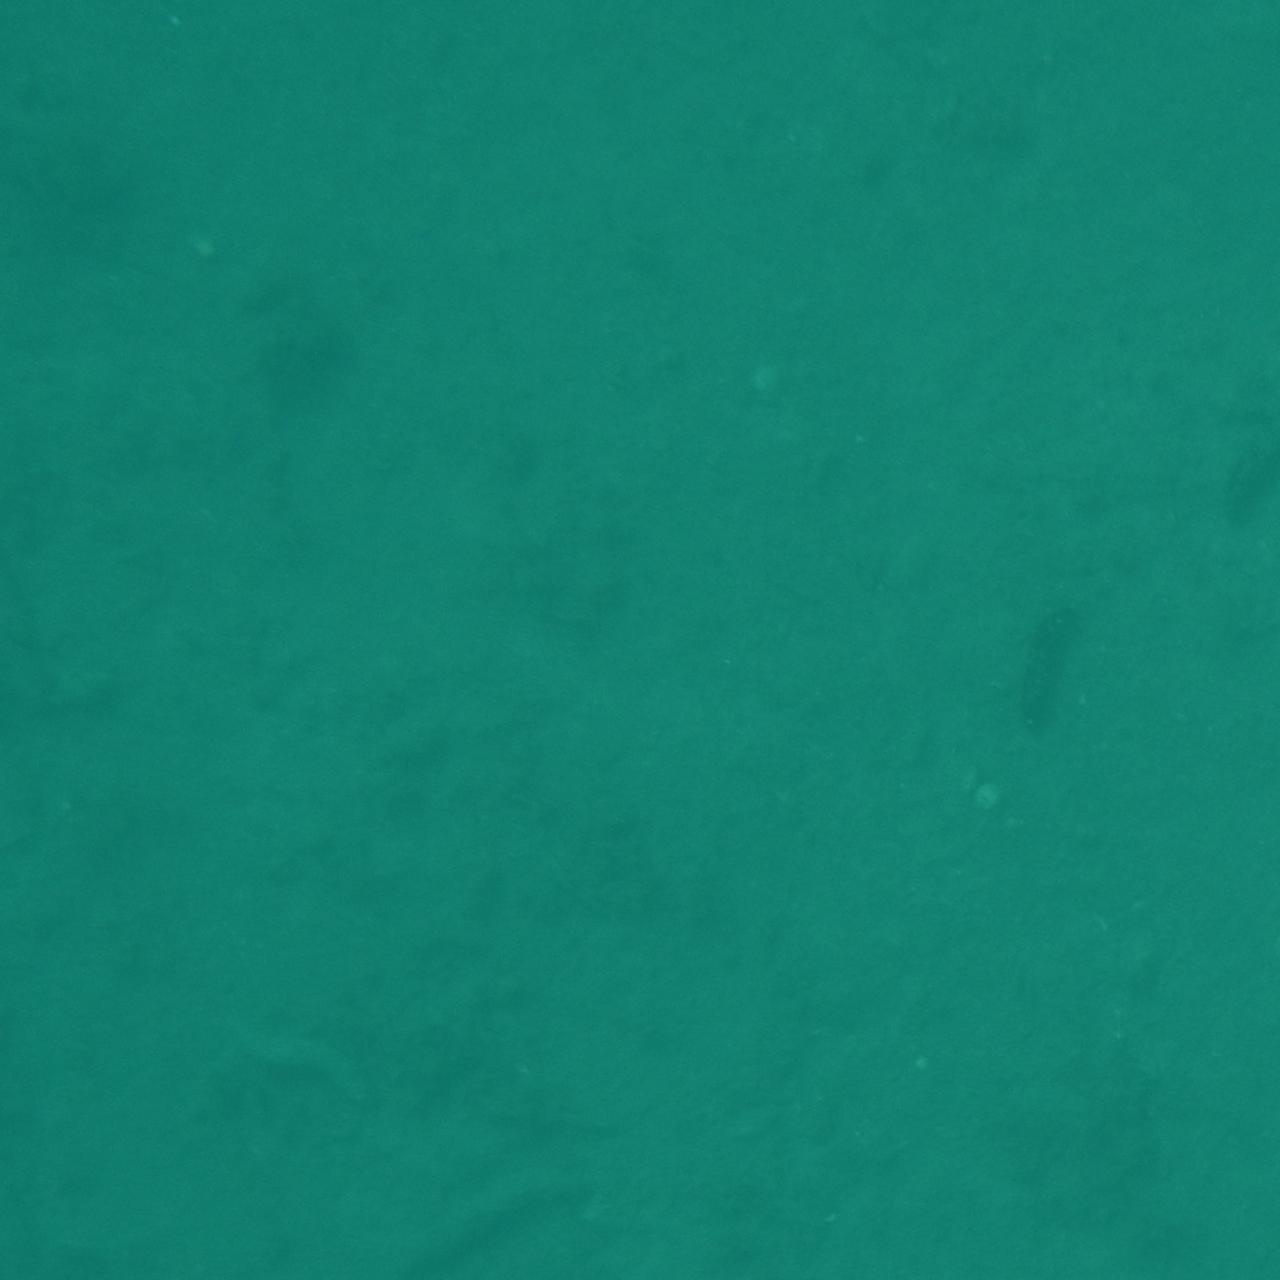Holothuria tubulosa: (393, 1136, 581, 1280), (969, 573, 1110, 767), (0, 0, 113, 181), (1164, 367, 1280, 527), (949, 0, 1148, 94), (1124, 128, 1280, 244), (0, 1110, 102, 1280), (0, 230, 95, 362), (770, 1179, 884, 1280), (1145, 0, 1280, 75), (0, 0, 54, 163), (1207, 0, 1280, 108)
